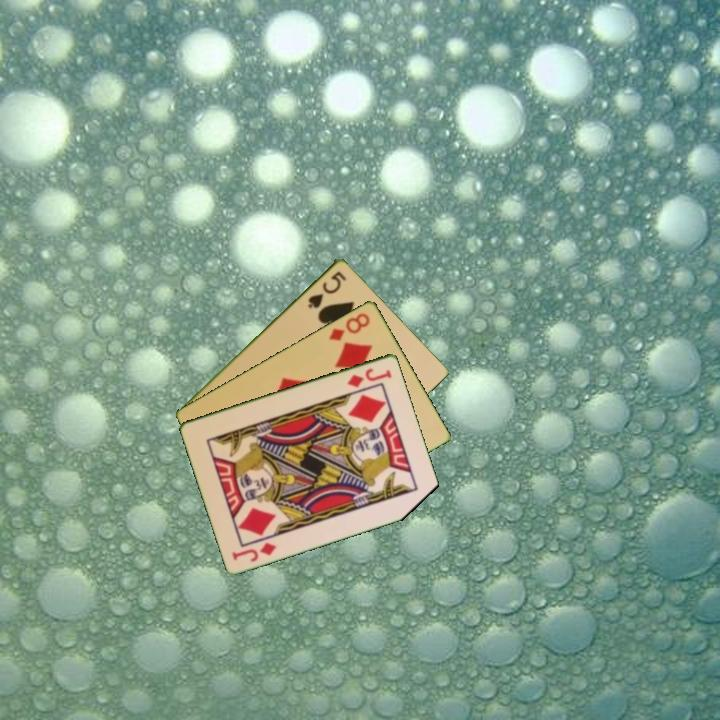5s: (304, 267, 349, 311)
8d: (325, 309, 373, 343)
Jd: (228, 538, 279, 565), (344, 364, 395, 390)
